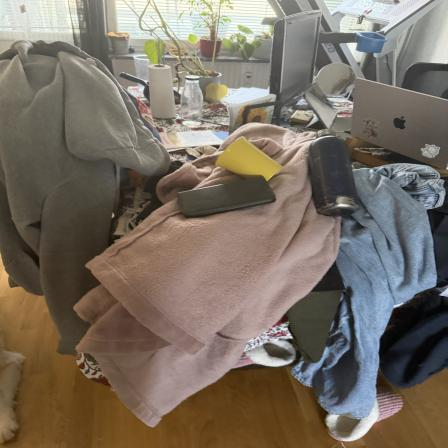blue_bottle: (308, 126, 360, 215)
phone: (179, 174, 279, 215)
yellow_cup: (212, 135, 294, 183)
